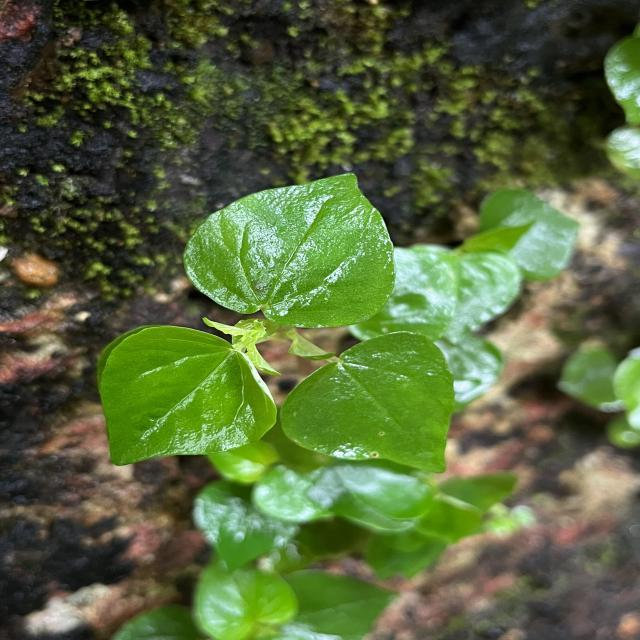Peperomia pellucida: (178, 168, 398, 332), (277, 328, 457, 478), (96, 322, 280, 467)
